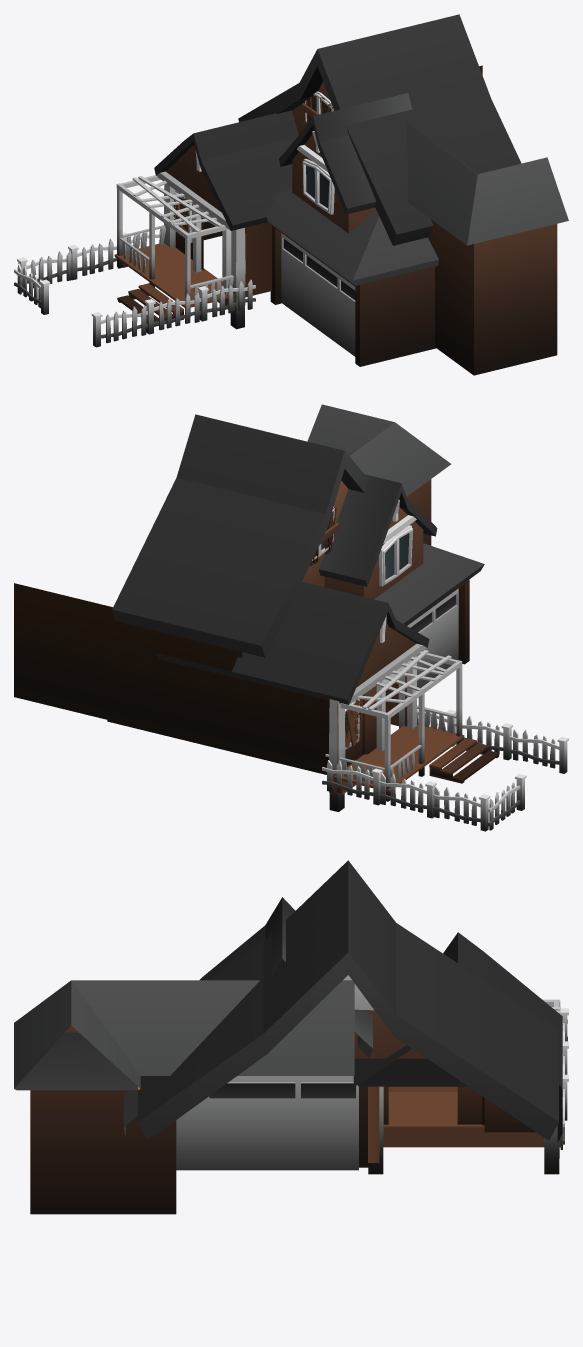
Rendered from SM_house.fbx.
3 renders of one model, top to bottom at view 1: azimuth 30°, elevation 25°; view 2: azimuth 150°, elevation 25°; view 3: azimuth 270°, elevation 25°, orthographic. The views are drawn at different scales.
Visible parts, largest first — view 1: SM_house; view 2: SM_house; view 3: SM_house.
Part boxes in pixels (x1=…): SM_house: x1=14, y1=14, x2=568, y2=375; SM_house: x1=14, y1=404, x2=568, y2=831; SM_house: x1=14, y1=860, x2=568, y2=1214.
Size of the model in its own units: 1604 by 886 by 1251.
